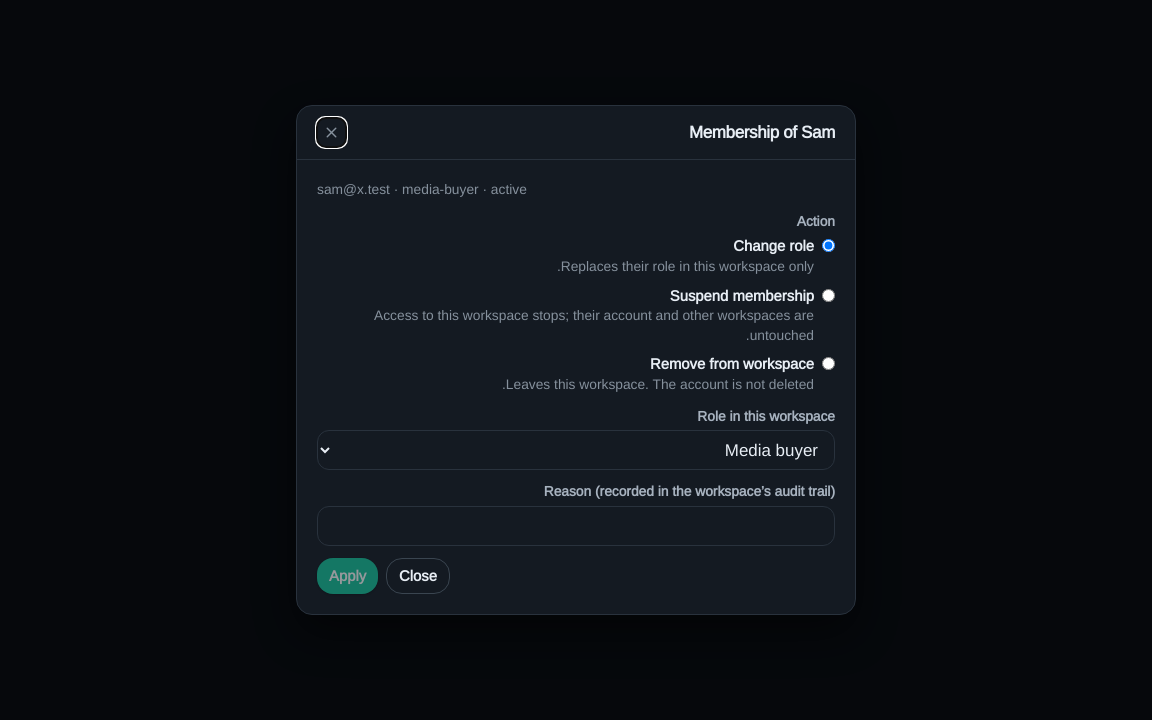
Test: MembershipDialog › changes the role with the chosen role and the reason
Check: the button with test id "membership-submit" is disabled, box x1=317 y1=558 x2=378 y2=594
Select "Owner" in the dropdown with test id "membership-role" at point(576, 450), box x1=317 y1=430 x2=835 y2=470
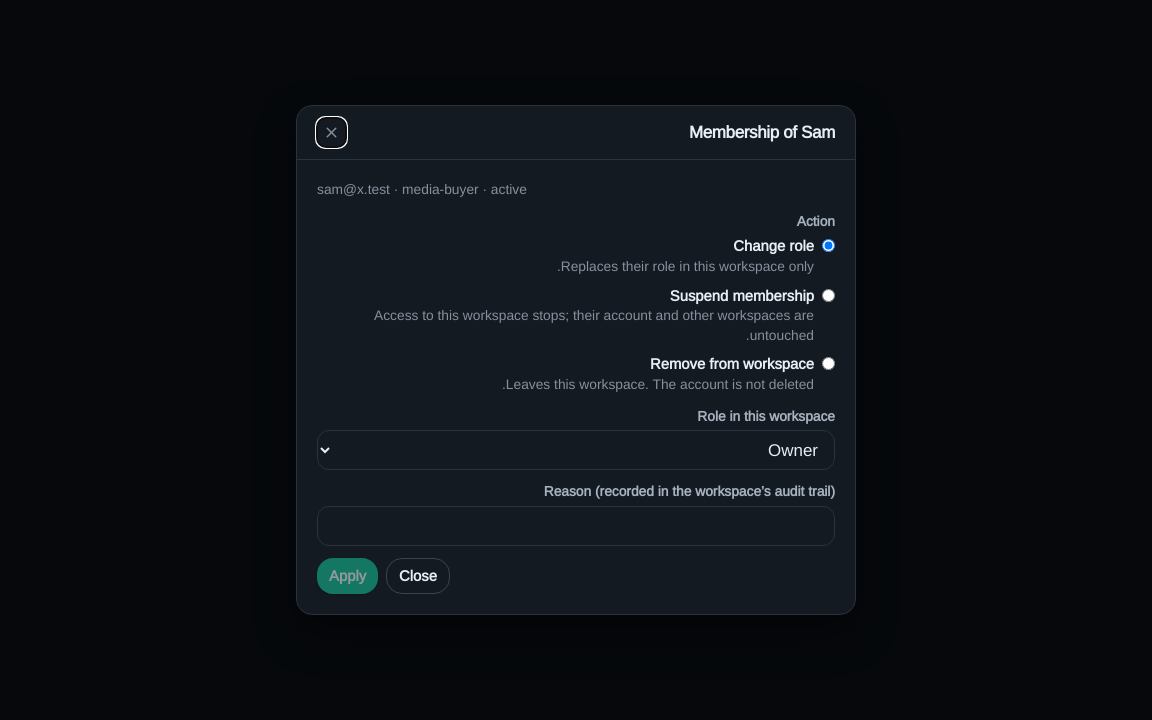
Type "Agency asked for it" into the field with test id "membership-reason" at point(576, 526), box x1=317 y1=506 x2=835 y2=546
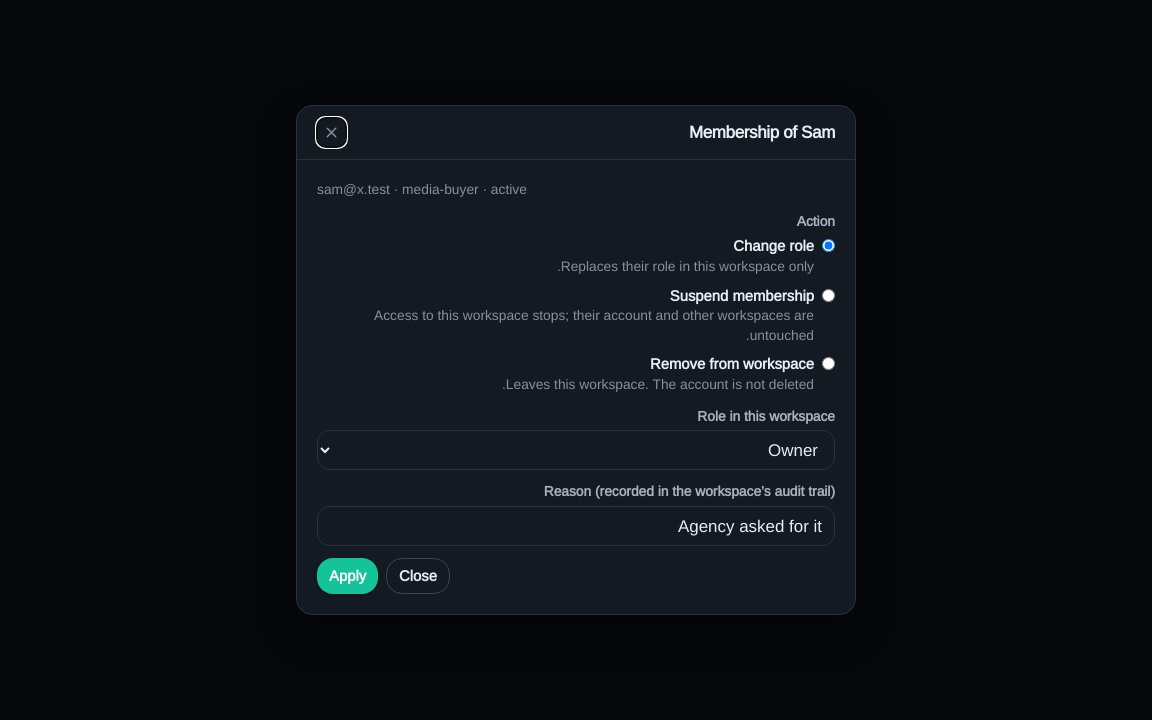
Click the button with test id "membership-submit" at point(348, 576), box x1=317 y1=558 x2=378 y2=594
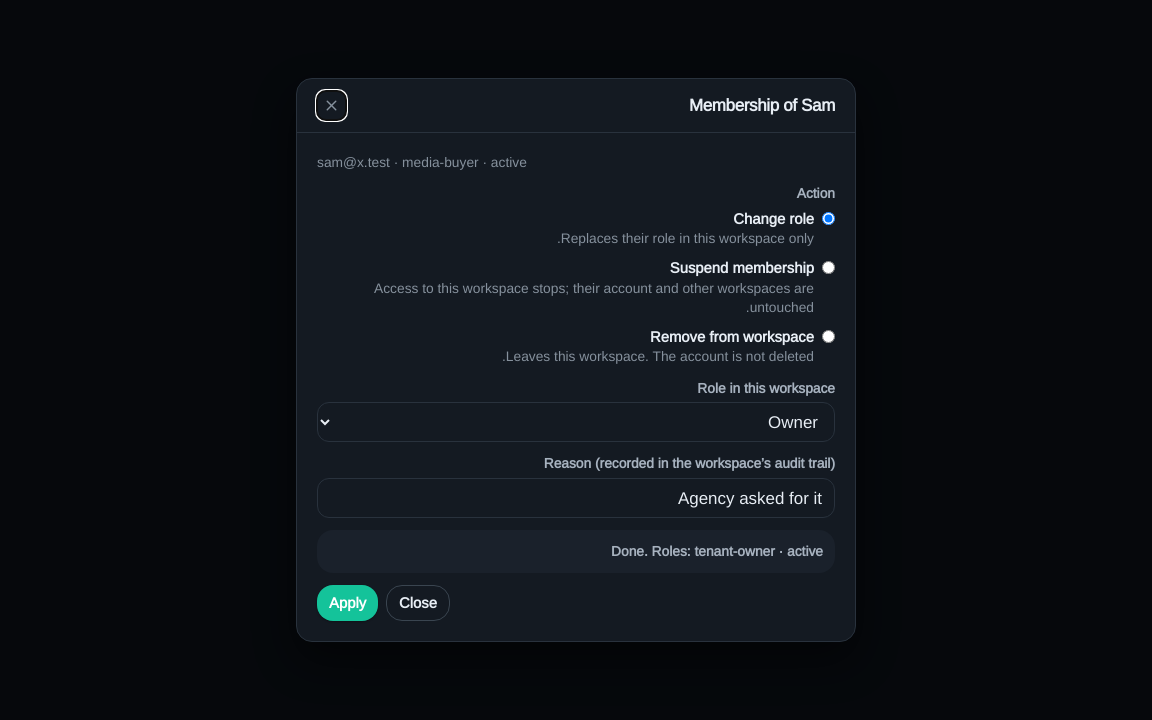
Check: the text with test id "membership-result" shows "tenant-owner", box x1=611 y1=543 x2=823 y2=559
